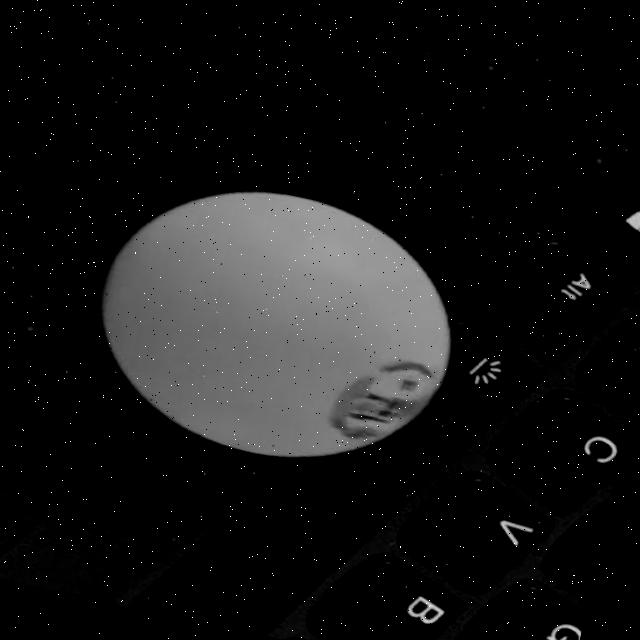ping-pong-ball: (78, 161, 469, 486)
